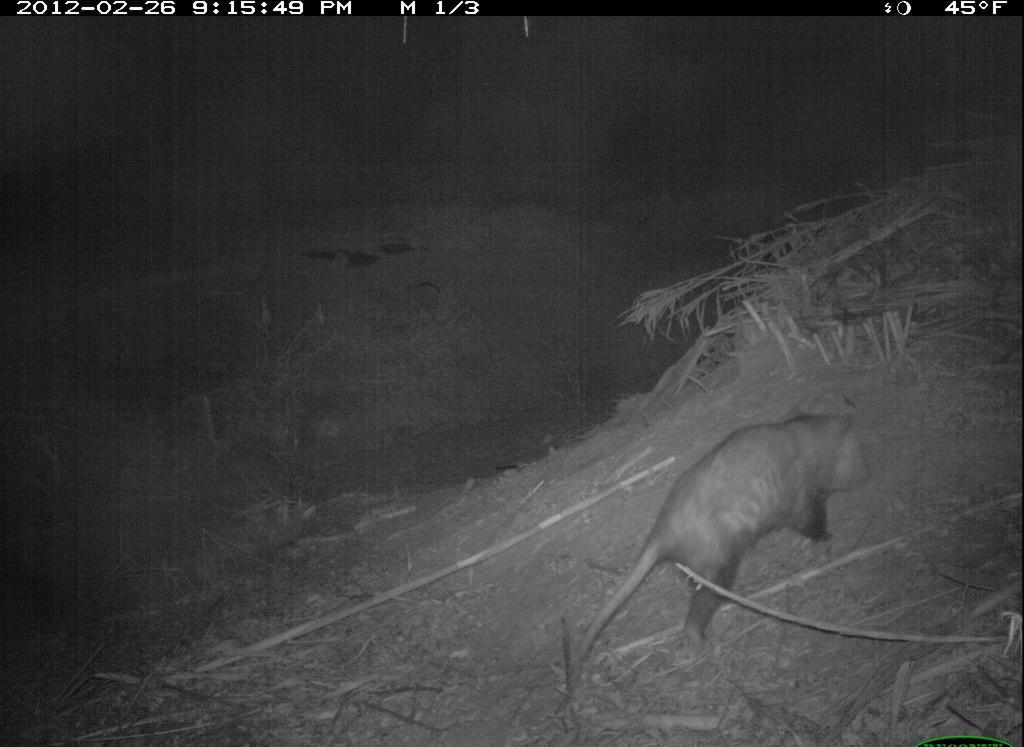opossum: (550, 402, 886, 689)
